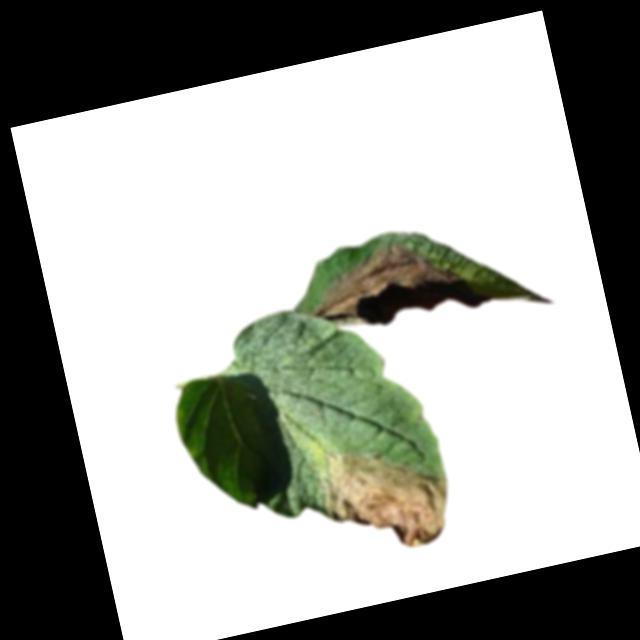Late_blight: (309, 427, 460, 566), (308, 231, 463, 323)
